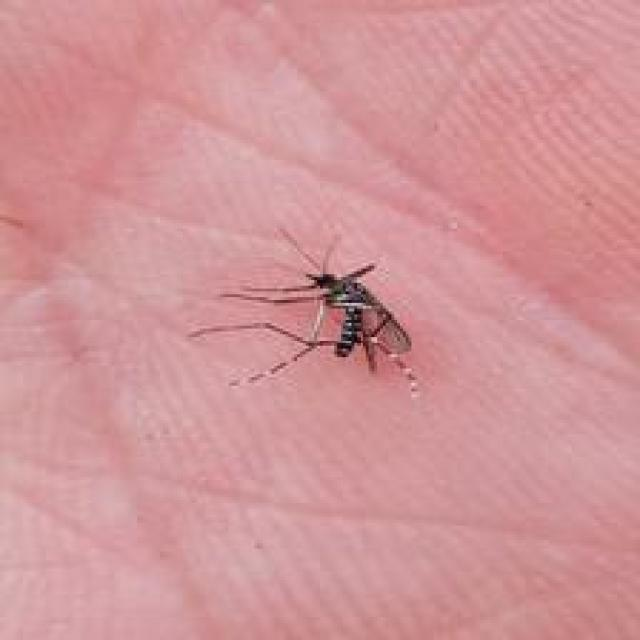Aedes albopictus: (187, 226, 422, 400)
